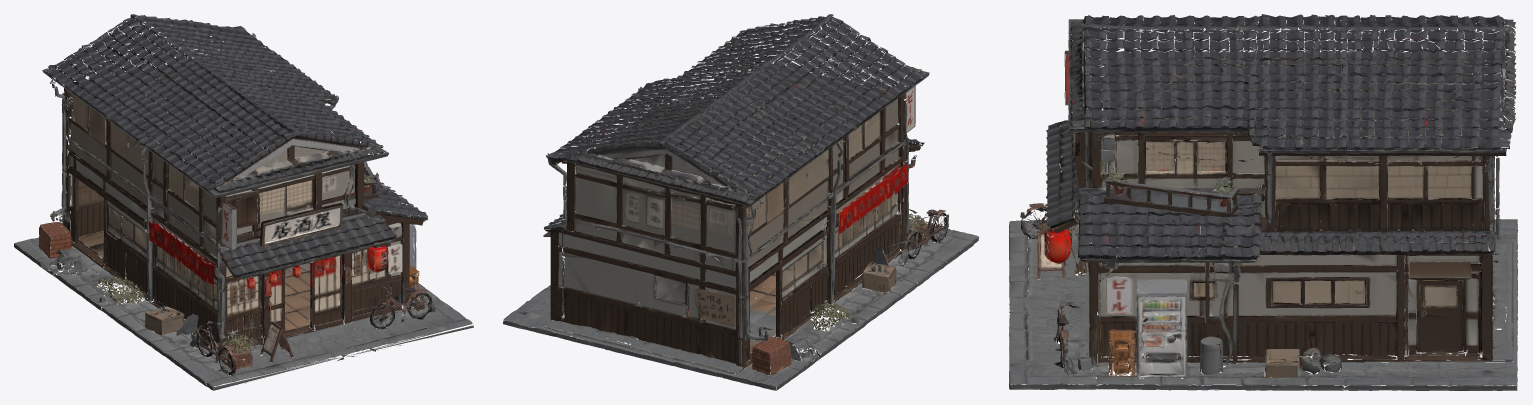
The model's file is minato-supplied-exterior.glb.
The picture shows the model from 3 angles, left to right: view 1: azimuth 30°, elevation 25°; view 2: azimuth 150°, elevation 25°; view 3: azimuth 270°, elevation 25°; orthographic projection. The views are drawn at different scales.
Visible parts, largest first — view 1: Supplied Lantern Izakaya; view 2: Supplied Lantern Izakaya; view 3: Supplied Lantern Izakaya.
Boxes of the visible parts, <box> form: Supplied Lantern Izakaya: <box>14,14,473,390</box>; Supplied Lantern Izakaya: <box>503,14,978,390</box>; Supplied Lantern Izakaya: <box>1009,14,1517,390</box>.
Size of the model in its own units: 6.53 by 4.89 by 8.28.
1 material, 1 textured.
